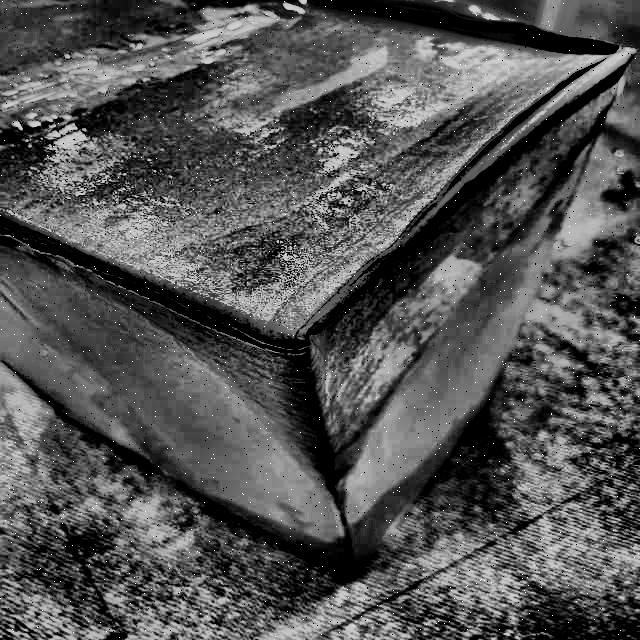box: (0, 20, 640, 584)
wet: (14, 9, 624, 463)
